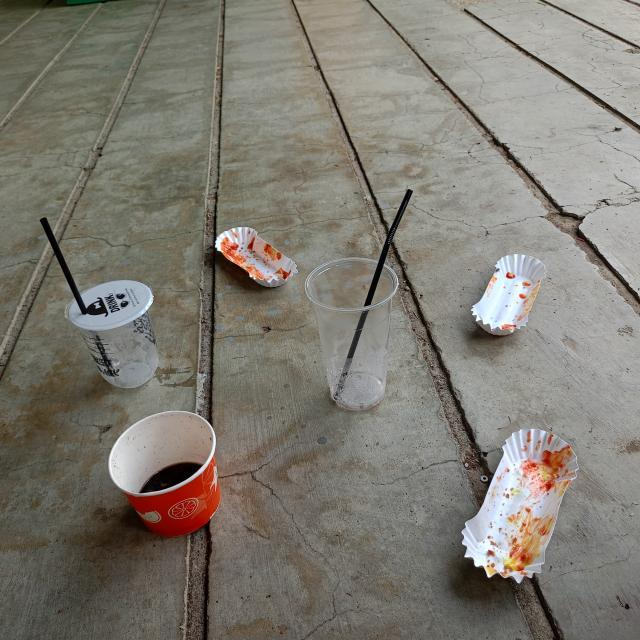recyclable waste: (451, 422, 585, 590), (297, 250, 408, 420), (102, 402, 230, 544), (58, 270, 166, 393), (463, 248, 556, 342), (204, 220, 304, 294)
